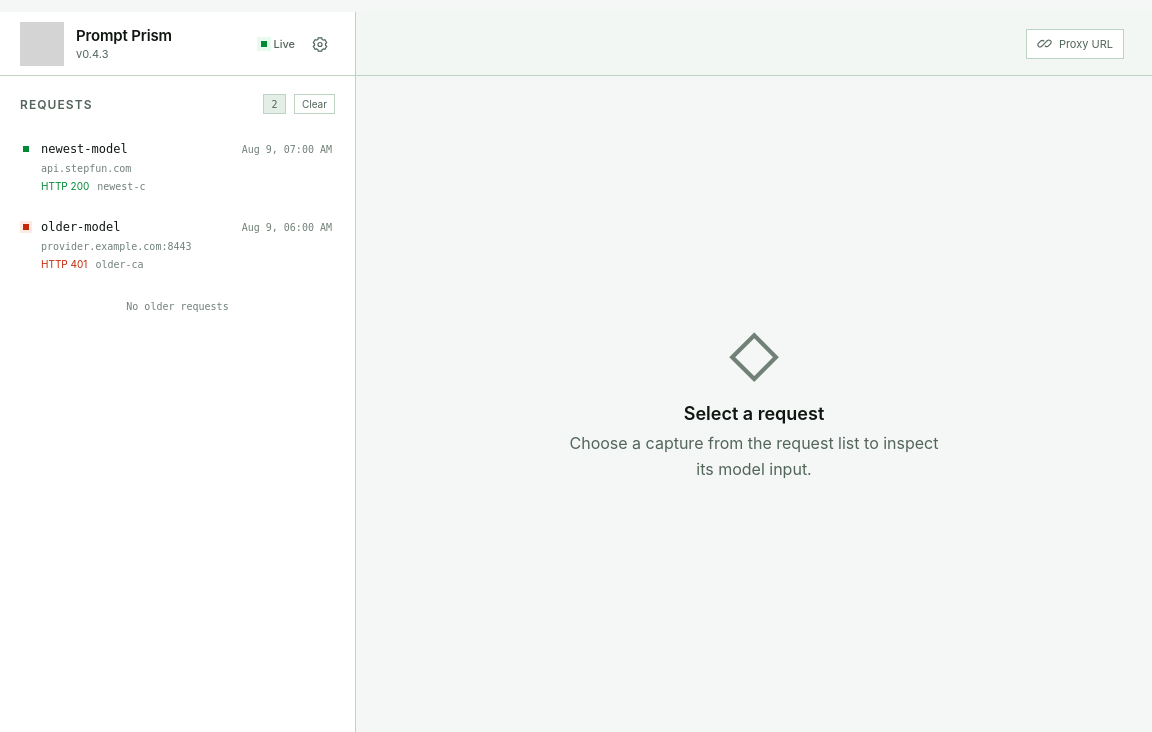
Test: App › keeps the selected Input Diff tab when selecting a capture from the list
The image size is (1152, 732).
Click the button "older-model": (178, 245) [10, 206, 345, 284]
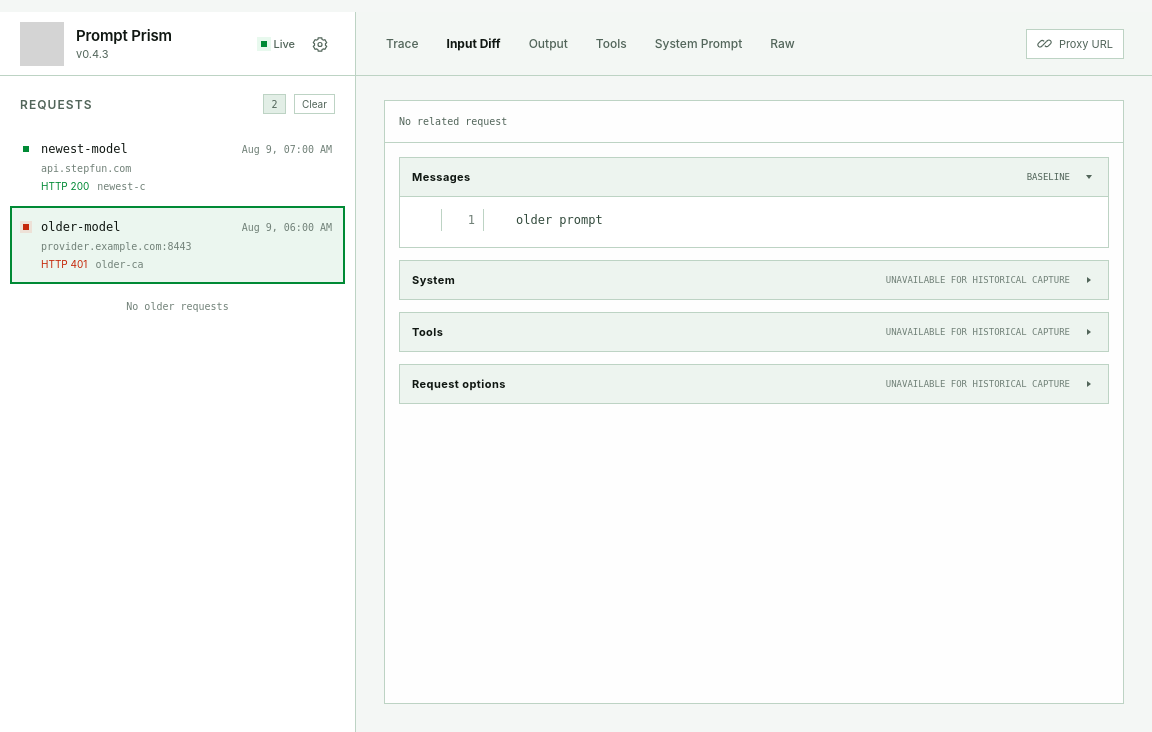
Now the text "older prompt" is shown, box [516, 213, 603, 227]
